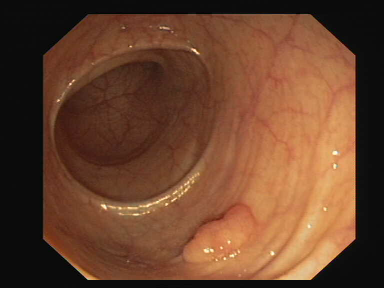polyp: (173, 180, 283, 281)
